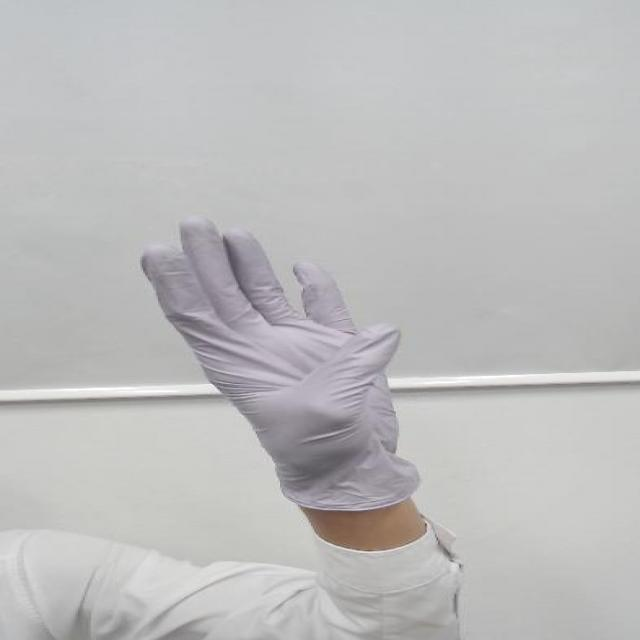with_gloves: (122, 208, 438, 450)
